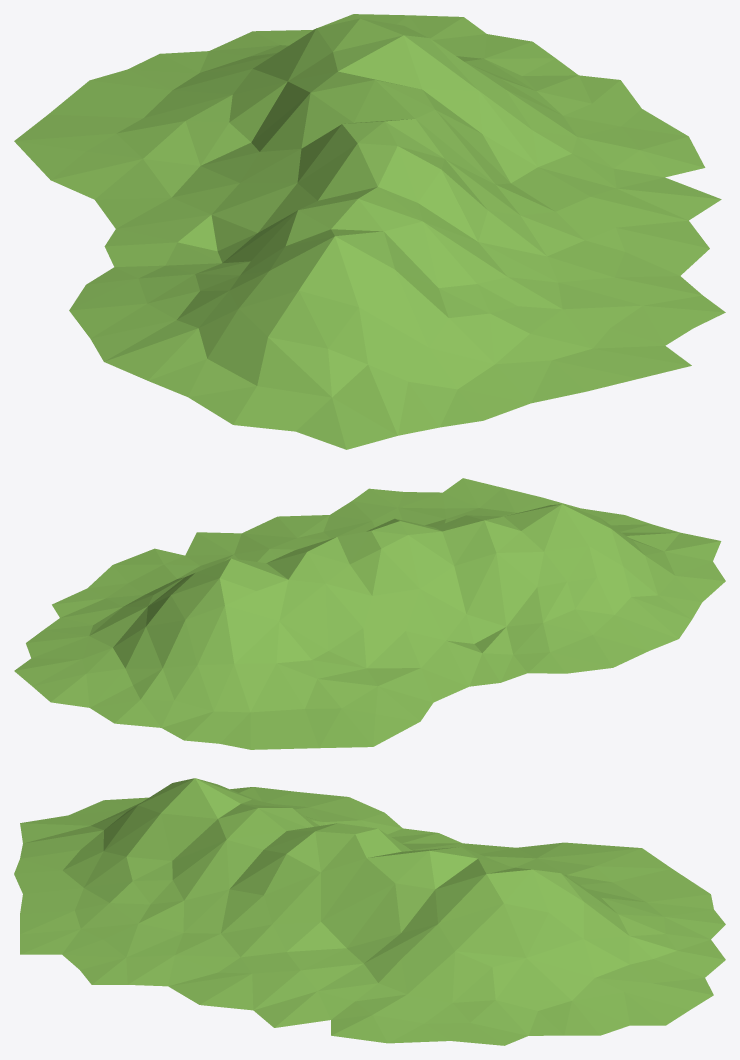
The model's file is MT_Mountain_M_a_13_LOD.fbx.
The picture shows the model from 3 angles, top to bottom: view 1: azimuth 30°, elevation 25°; view 2: azimuth 150°, elevation 25°; view 3: azimuth 270°, elevation 25°; orthographic projection. The views are drawn at different scales.
Visible parts, largest first — view 1: MT_Mountain_M_a_13_LOD0; view 2: MT_Mountain_M_a_13_LOD0; view 3: MT_Mountain_M_a_13_LOD0.
Part boxes in pixels (bbox=[...]): MT_Mountain_M_a_13_LOD0: bbox=[14, 14, 725, 449]; MT_Mountain_M_a_13_LOD0: bbox=[14, 478, 725, 749]; MT_Mountain_M_a_13_LOD0: bbox=[14, 778, 725, 1045].
Size of what is drawn, in the model's own units: 4169 by 646 by 4864.
